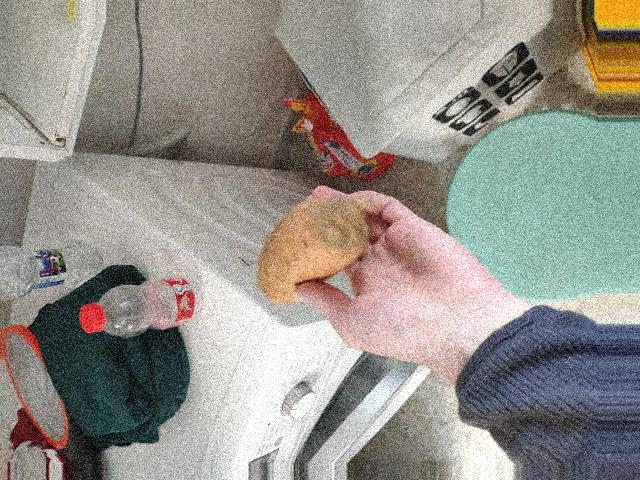sweet_potato: (256, 205, 381, 313)
